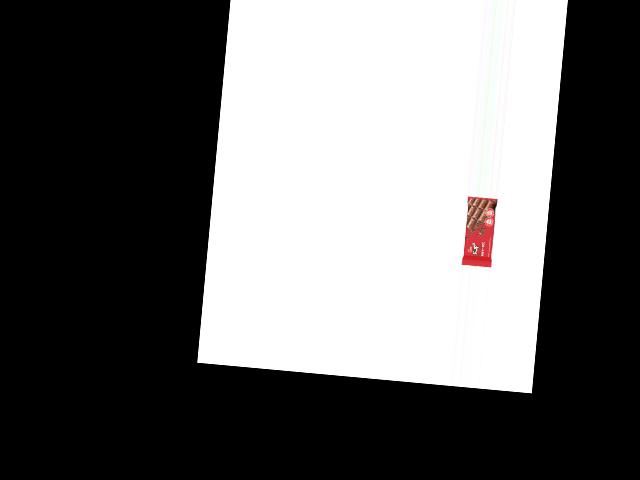chocolate: (461, 196, 497, 268)
